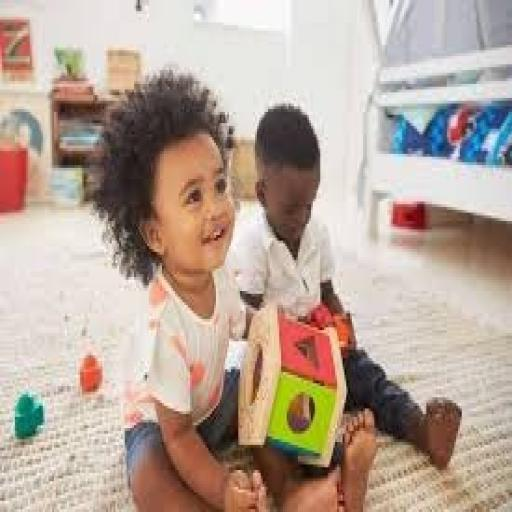baby: (94, 70, 342, 511), (231, 104, 461, 511)
